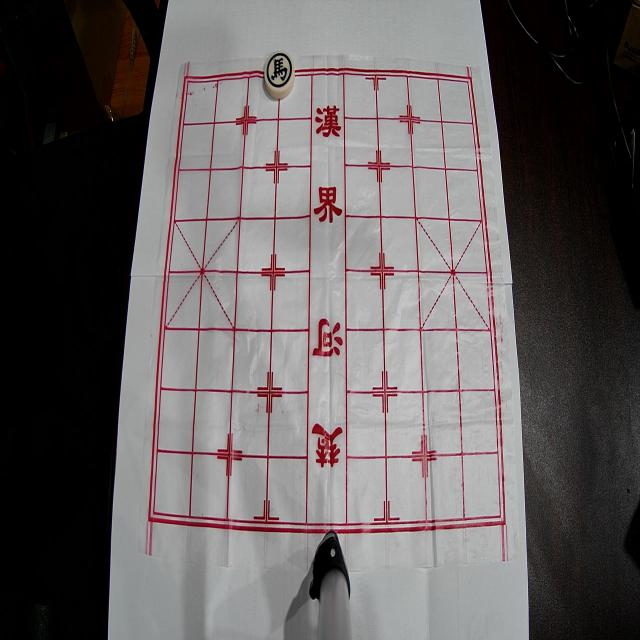black-horse: (264, 51, 294, 98)
